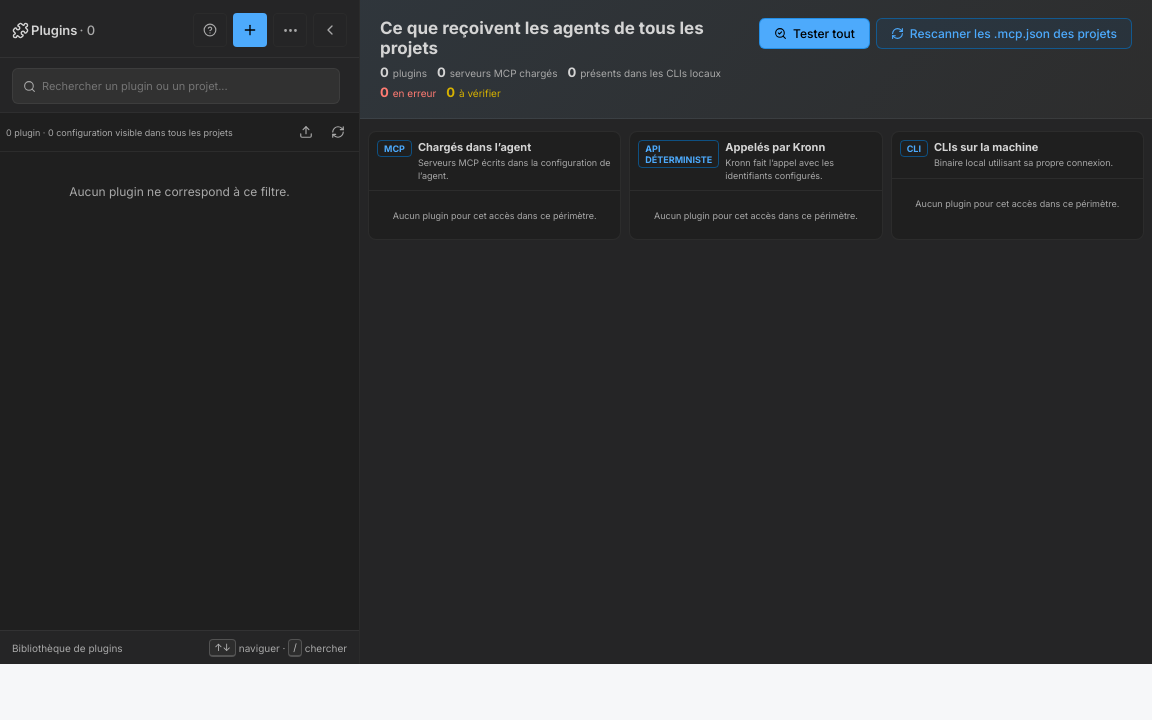
it: McpPage › opens plugin creation in an accessible modal and restores focus when it closes
Click the button named "Ajouter" at (250, 30), box [233,13,267,47]
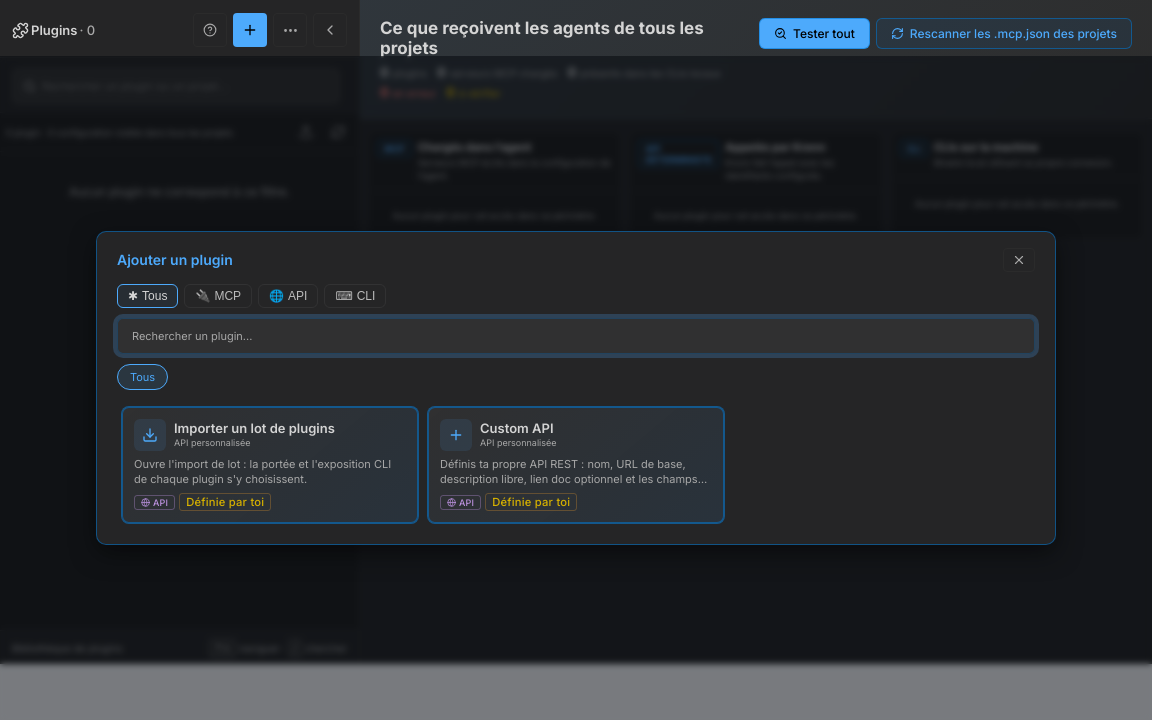
Press Escape in the dialog "Ajouter un plugin", box [96,231,1056,545]
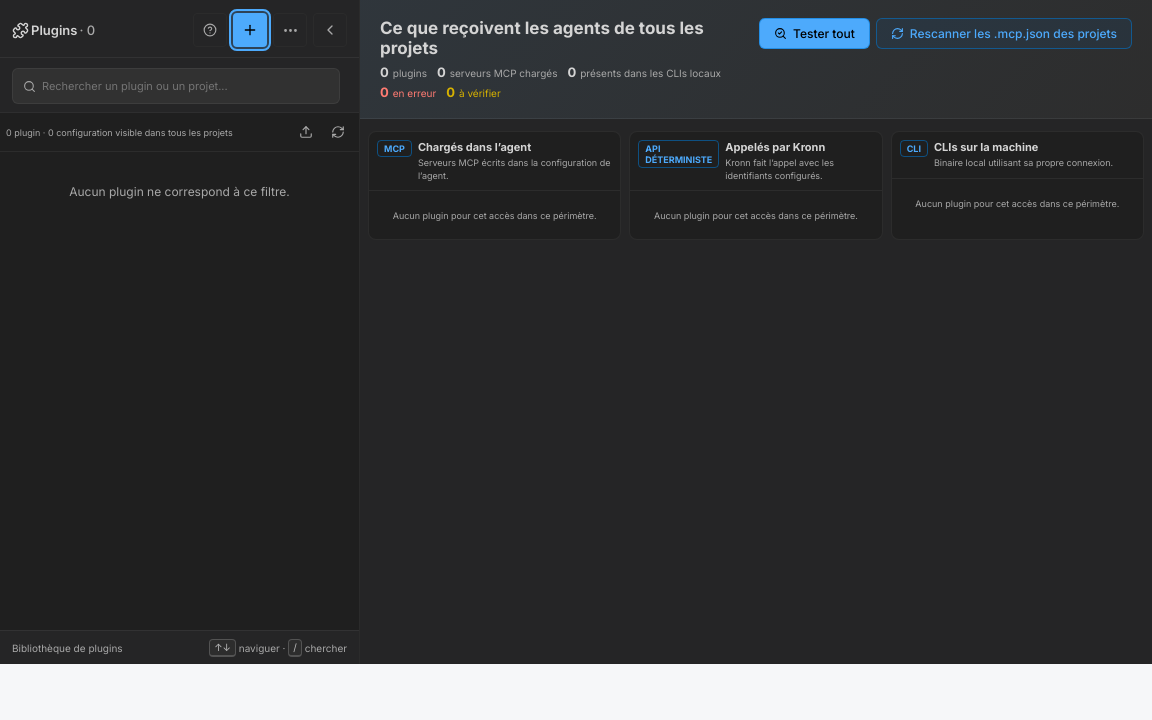
Check: the heading "Ajouter un plugin" is gone
Click the button named "Ajouter" at (250, 30), box [233,13,267,47]
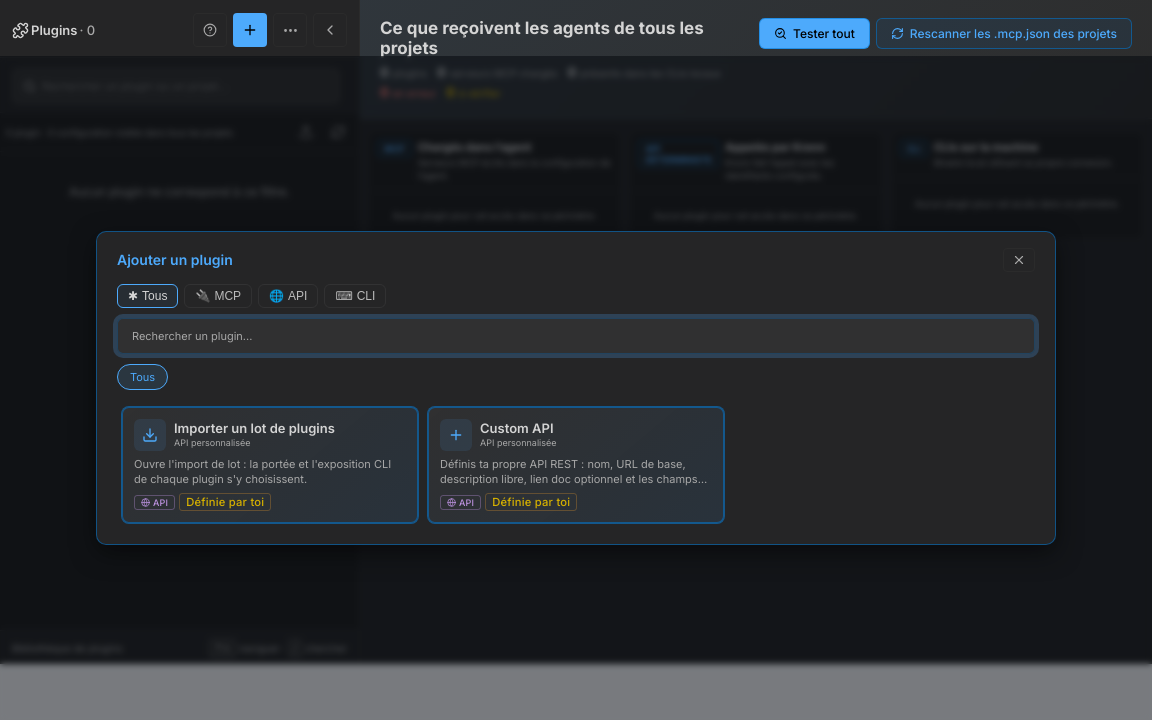
Press the mouse on the element with test id "mcp-add-modal-backdrop" at (576, 388), box [0,56,1151,719]
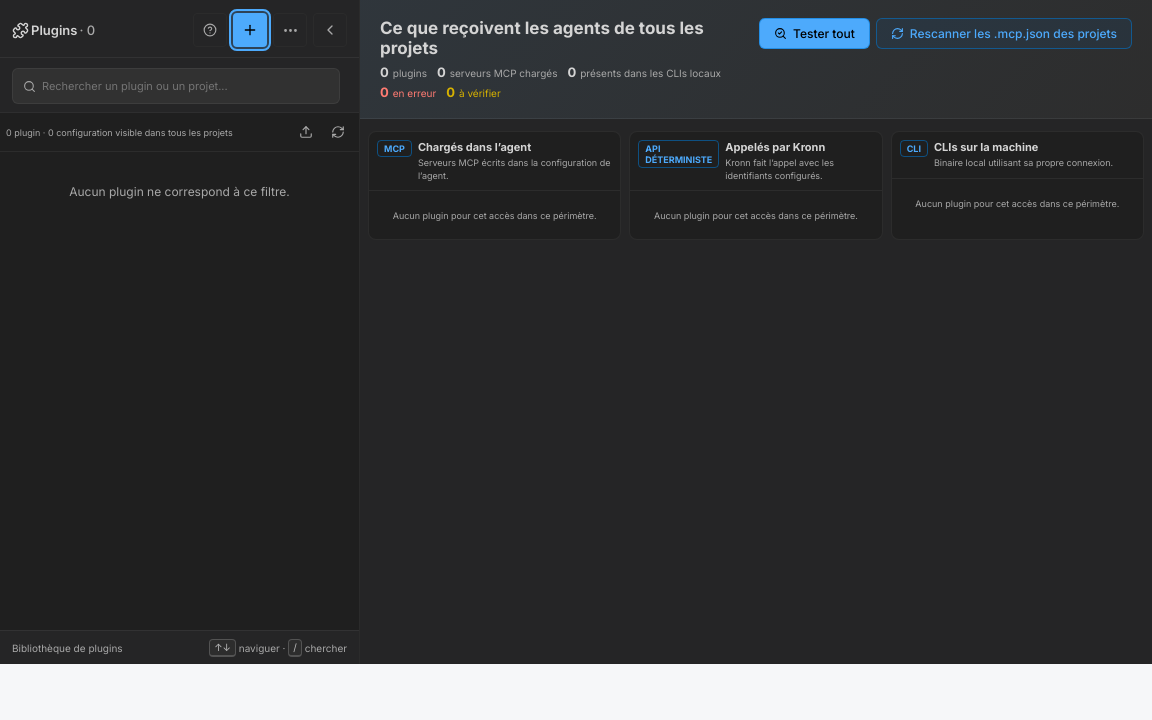
Check: the heading "Ajouter un plugin" is gone
